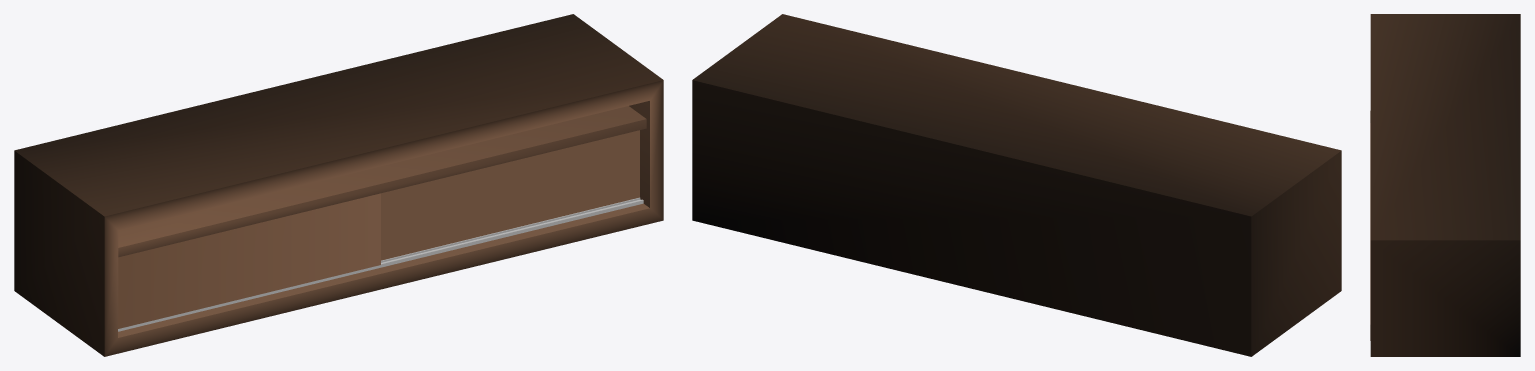
The model's file is Rack.fbx.
3 views of the same model, side by side, from view 1: azimuth 30°, elevation 25°; view 2: azimuth 150°, elevation 25°; view 3: azimuth 270°, elevation 25° (orthographic). The views are drawn at different scales.
Visible parts, largest first — view 1: Rack; view 2: Rack; view 3: Rack.
Boxes of the visible parts, x1=… form: Rack: x1=14, y1=14, x2=663, y2=356; Rack: x1=692, y1=14, x2=1341, y2=356; Rack: x1=1370, y1=14, x2=1520, y2=356.
Bounding box in the file's own units: 250 × 59.98 × 70.
